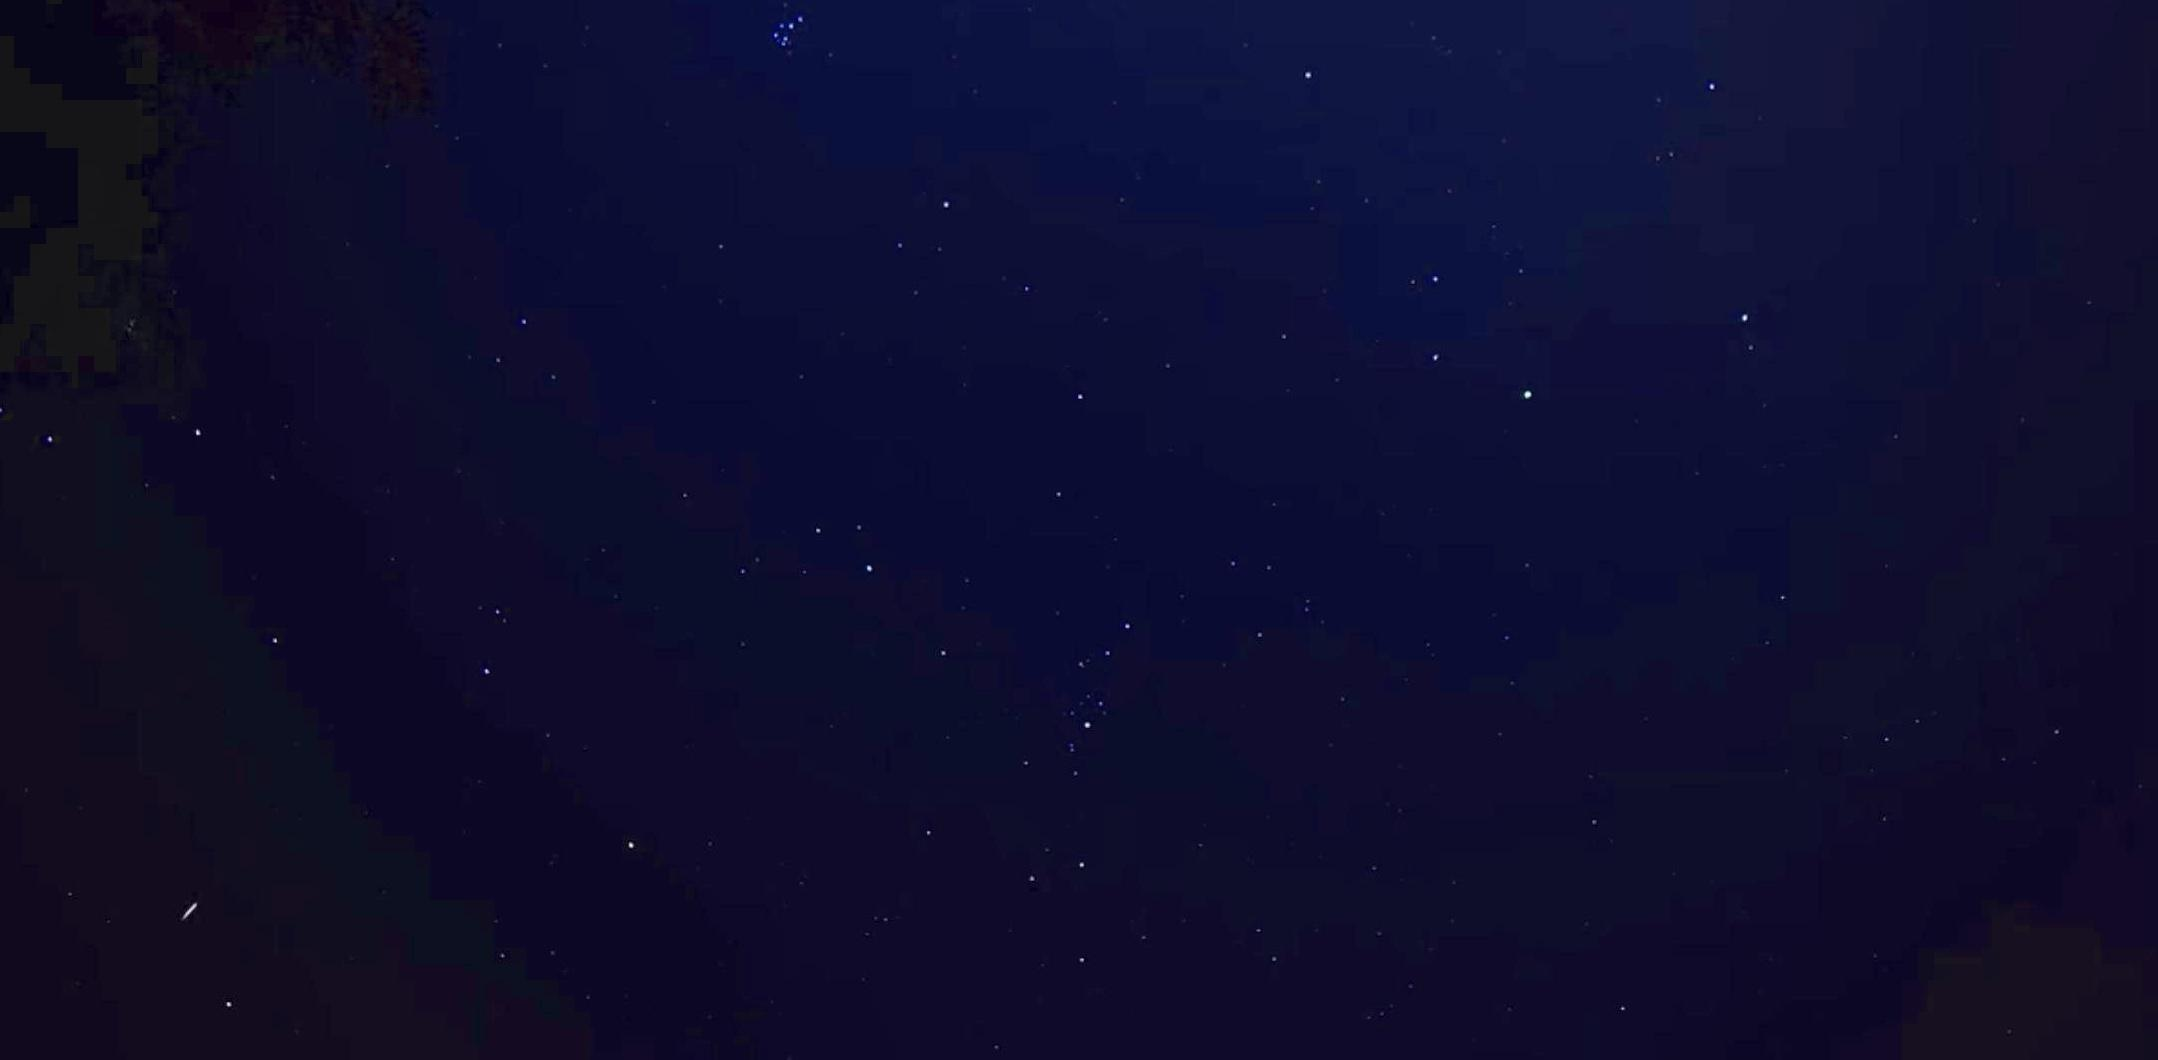meteorite: (142, 887, 234, 932)
